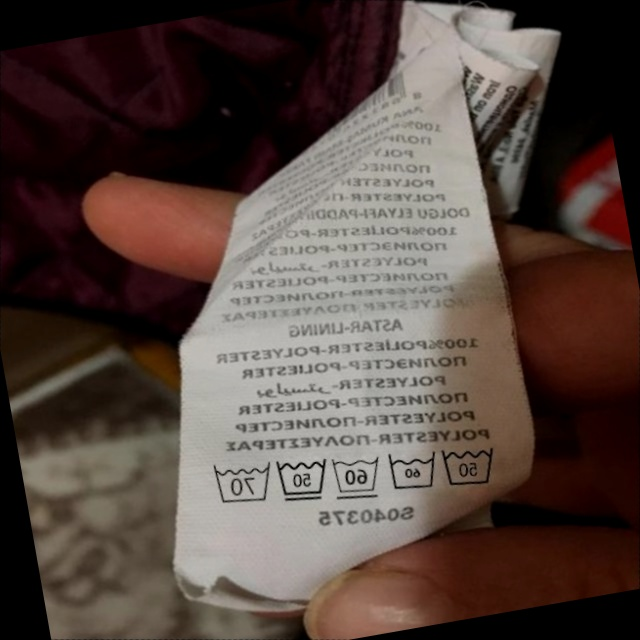50C: (429, 430, 508, 501), (265, 445, 337, 514)
60C: (320, 443, 389, 509), (376, 439, 446, 503)
70C: (199, 449, 279, 516)
